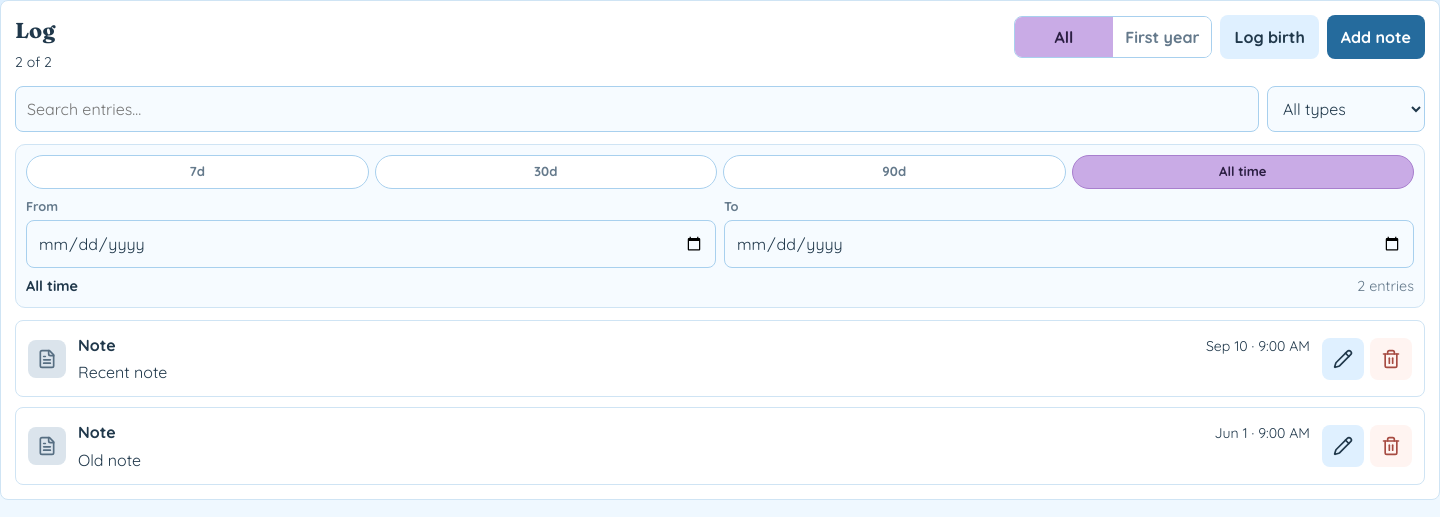
Log date range › explains an empty result as a filter miss
Step 1. Type "2026-01-01" into the date field labelled "From" → x=371, y=244, box top-left (26, 220), bottom-right (716, 268)
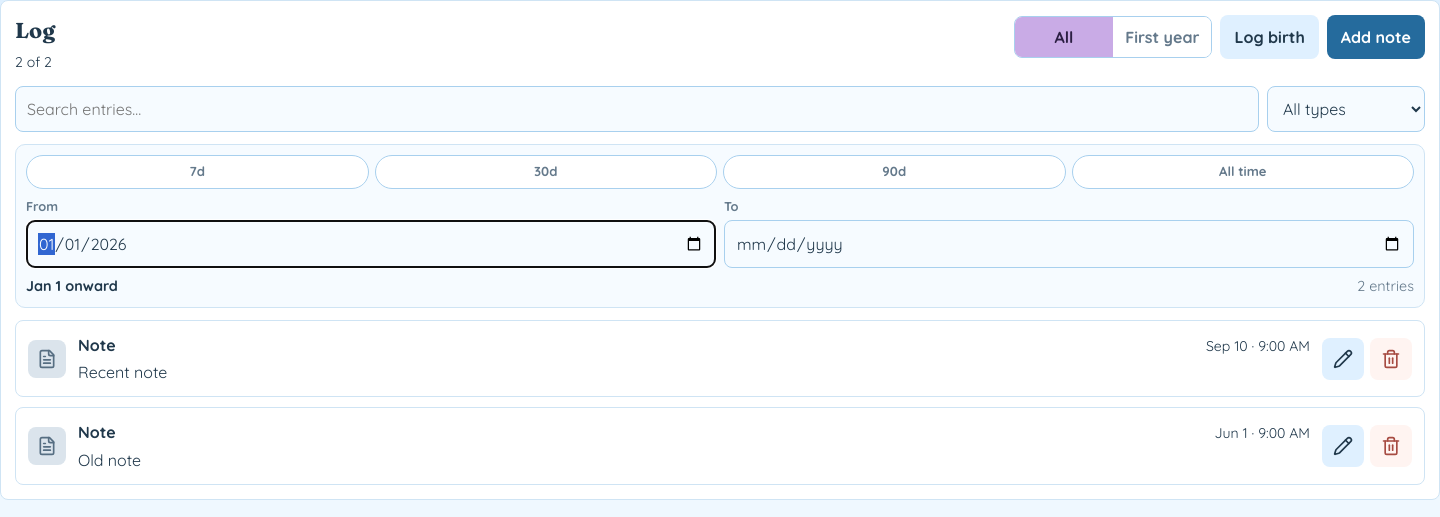
Step 2. Type "2026-01-31" into the date field labelled "To" → x=1069, y=244, box top-left (724, 220), bottom-right (1414, 268)
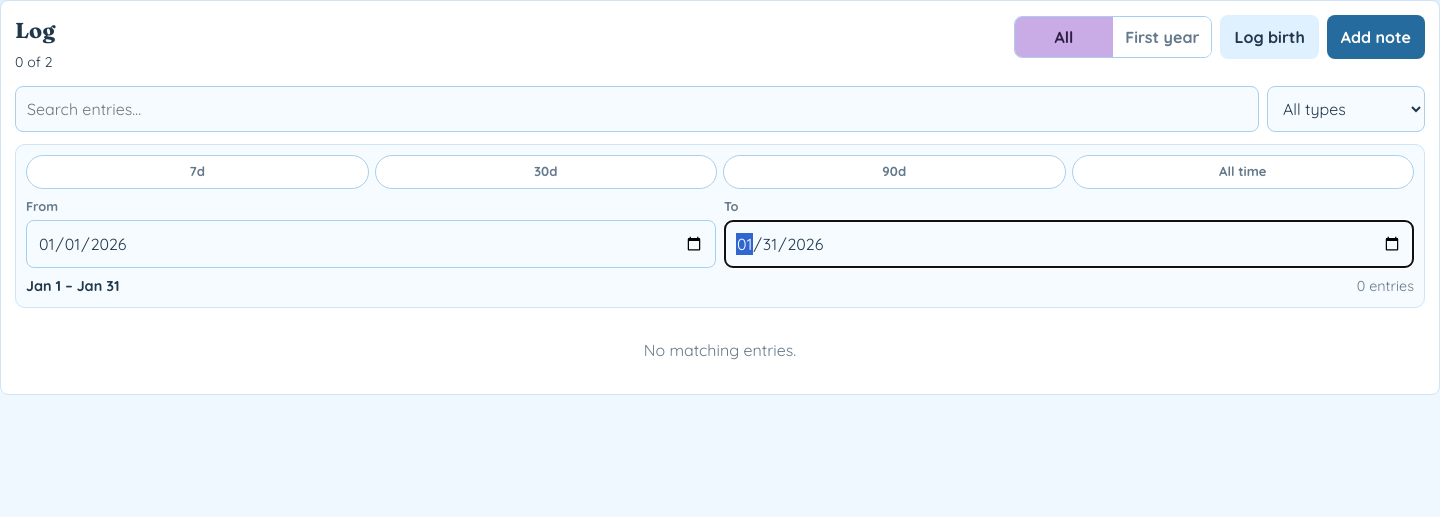
Now the text "No matching entries." is shown, box top-left (644, 340), bottom-right (796, 360)
